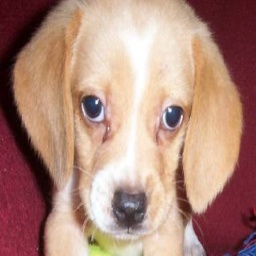dog: (14, 0, 242, 256)
